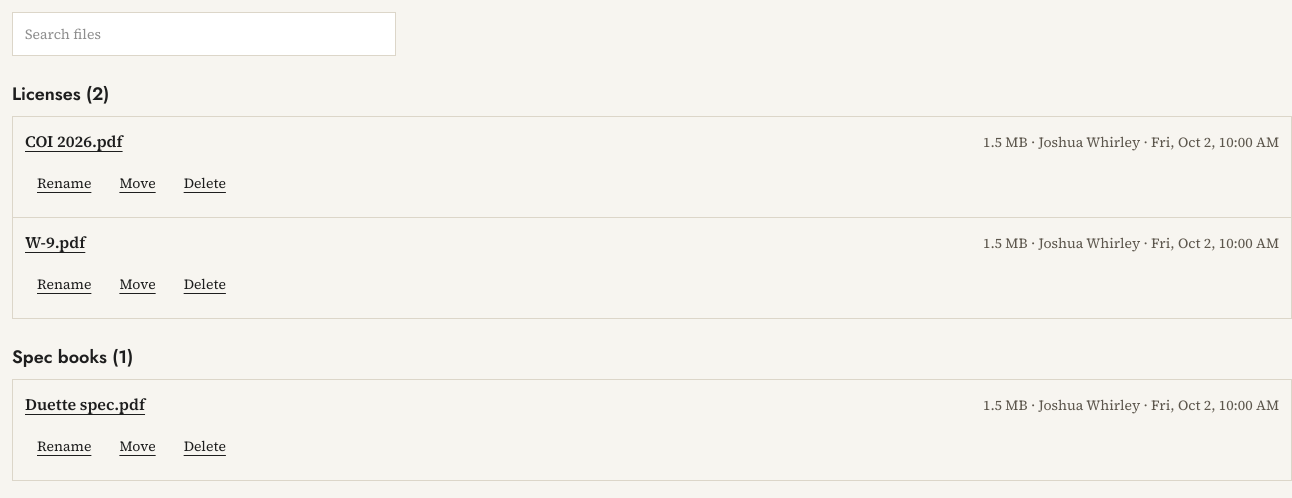
ResourceList › searches by name or category
The width and height of the screenshot is (1292, 498).
Type "duette" into the search field labelled "Search files" at (204, 34), box [12, 12, 396, 56]
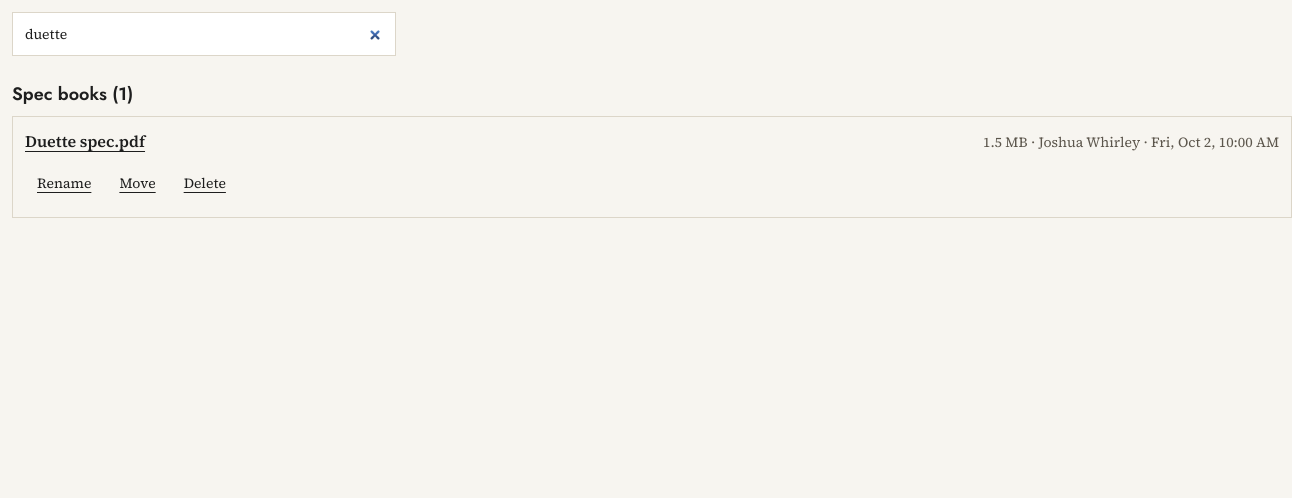
Expected: the links read "Duette spec.pdf", in this order, [25, 129, 145, 153]
Replace the text in the search field named "Search files" with "zzz" at (204, 34), box [12, 12, 396, 56]
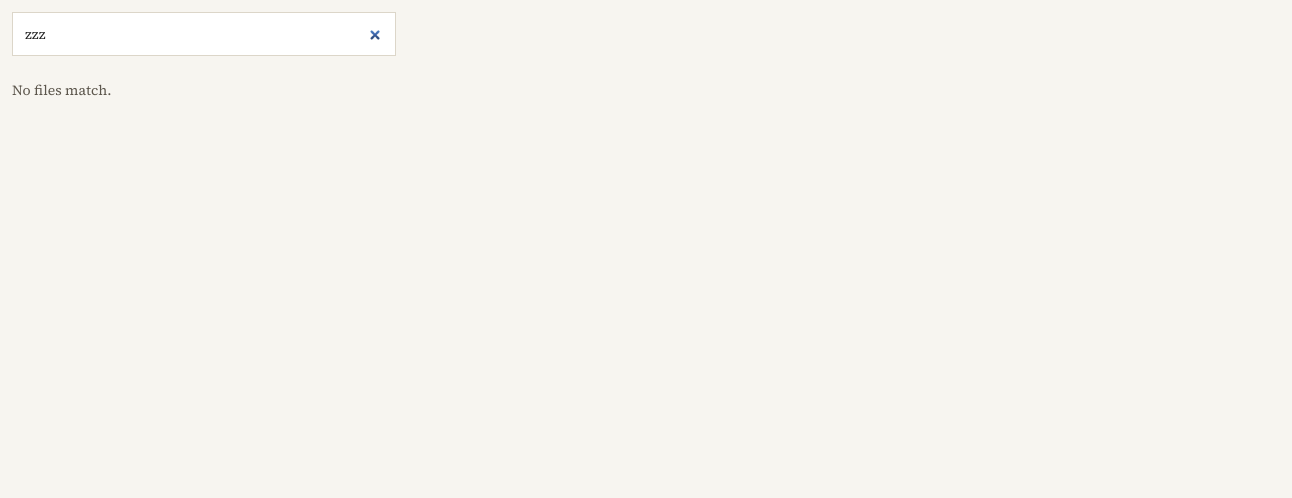
Expected: the text "No files match." is shown, [12, 80, 111, 100]
